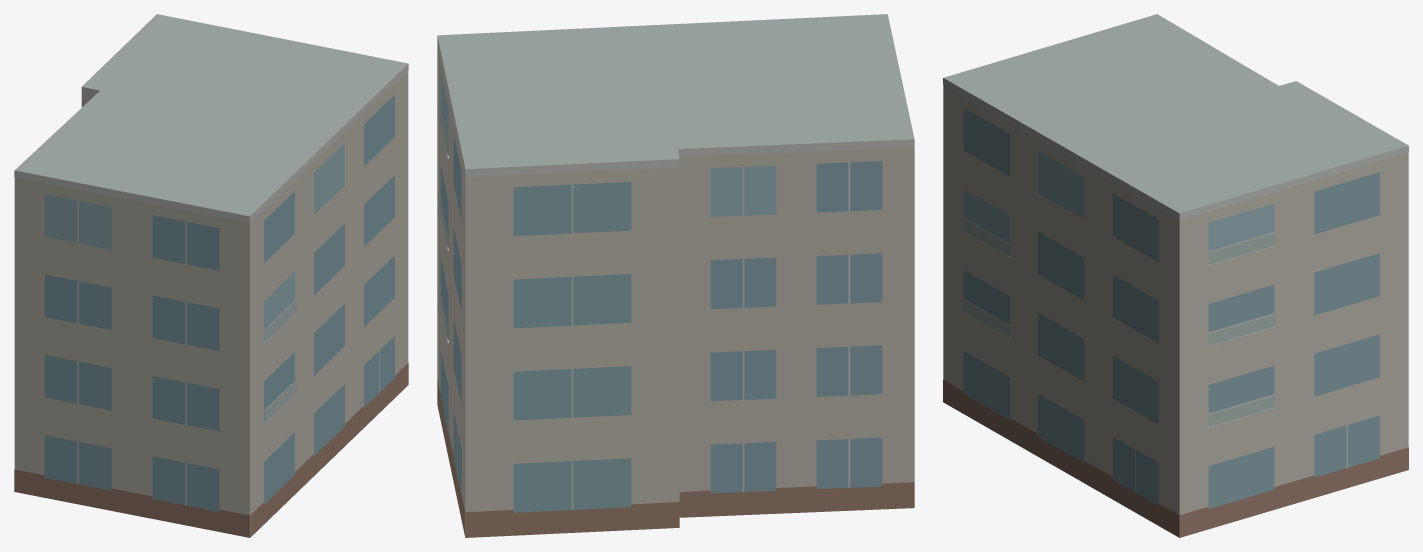
File: survey-upis-32536736.glb
The picture shows the model from 3 angles, left to right: view 1: azimuth 30°, elevation 25°; view 2: azimuth 150°, elevation 25°; view 3: azimuth 270°, elevation 25°; orthographic projection. The views are drawn at different scales.
Visible parts, largest first — view 1: survey-upis-32536736.tmp; view 2: survey-upis-32536736.tmp; view 3: survey-upis-32536736.tmp.
Part boxes in pixels (box(x1,y1,x2,y2)): survey-upis-32536736.tmp: box(14, 14, 408, 537); survey-upis-32536736.tmp: box(437, 14, 914, 537); survey-upis-32536736.tmp: box(943, 14, 1408, 537).
Bounding box in the file's own units: 15.17 × 11.5 × 14.97.
